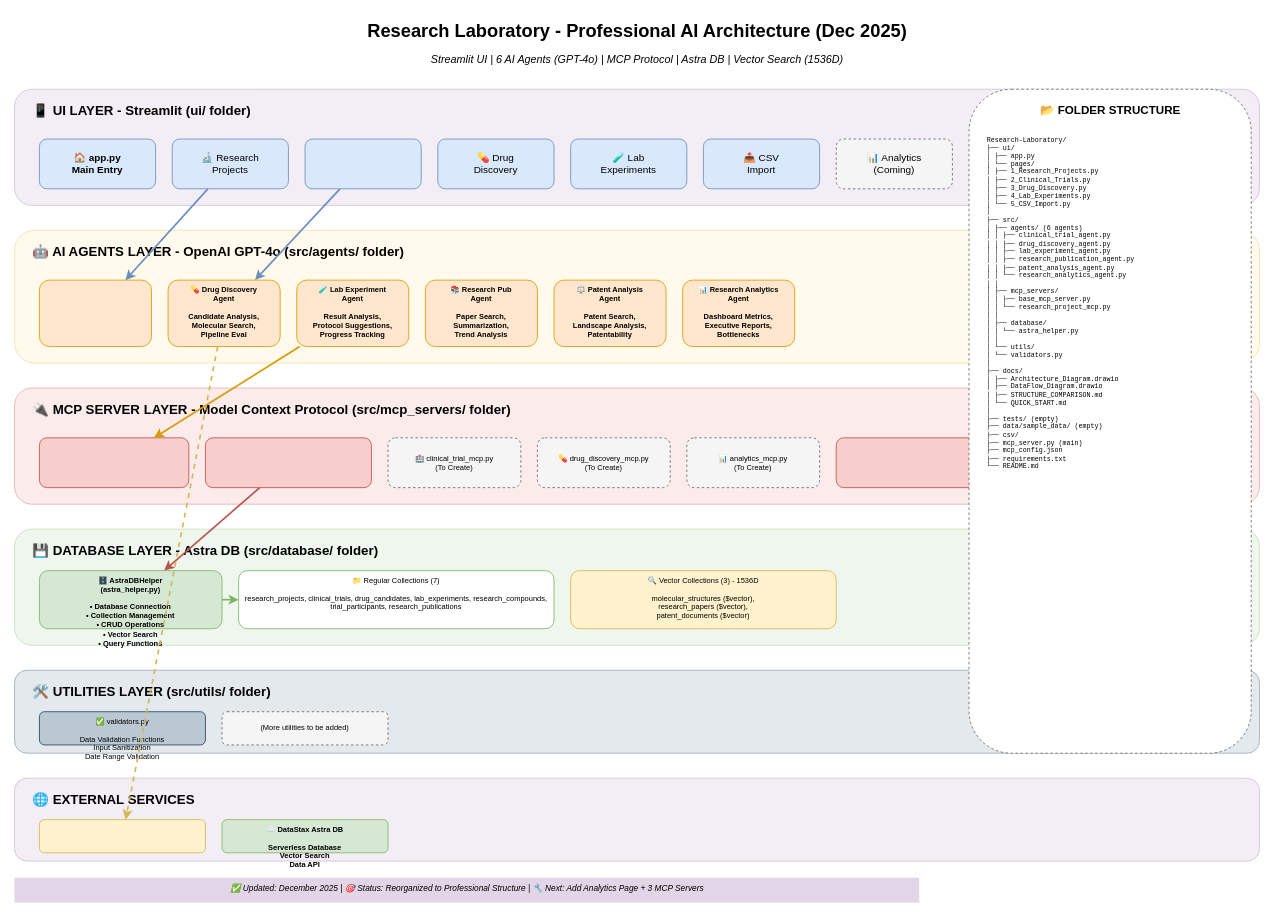
Image size: 1274x916. Some labels were removed from this diagram. The shapes that lost their labels are listed below. From the top down, each one's box as (x1, y1, x2, y2) in pixels, then its label:
(304, 138, 421, 189): 🏥 Clinical Trials
(39, 279, 151, 347): 🏥 Clinical Trial Agent Trial Analysis, Protocol Compliance, Reports
(39, 437, 189, 488): ⚙️ base_mcp_server.py Base MCP Class Error Handling Validation
(205, 437, 371, 488): 🔬 research_project_mcp.py Project CRUD Tools Query, Create, Update
(835, 437, 1002, 488): 🔌 mcp_server.py (Root) Main MCP Server 18 Tools API Access
(39, 819, 205, 853): 🤖 OpenAI API GPT-4o Model text-embedding-3-small 1536D Embeddings
